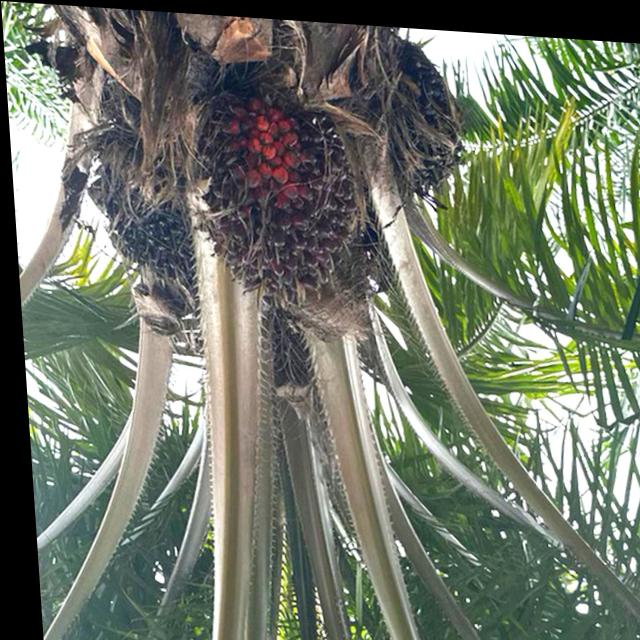ripe: (186, 73, 356, 302), (366, 32, 468, 199), (95, 168, 185, 281)
